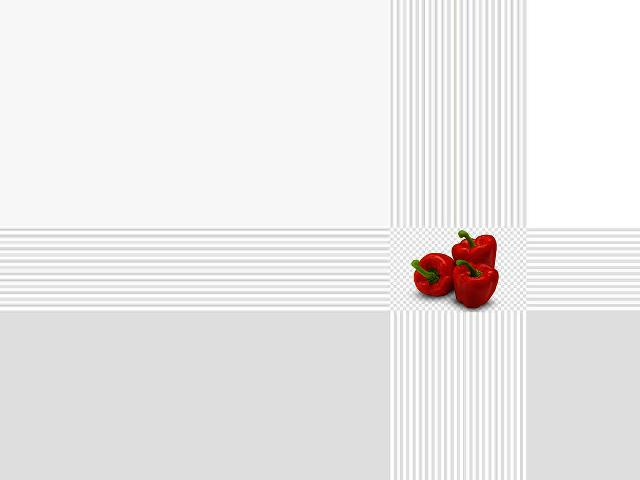bell_pepper: (408, 247, 459, 300)
